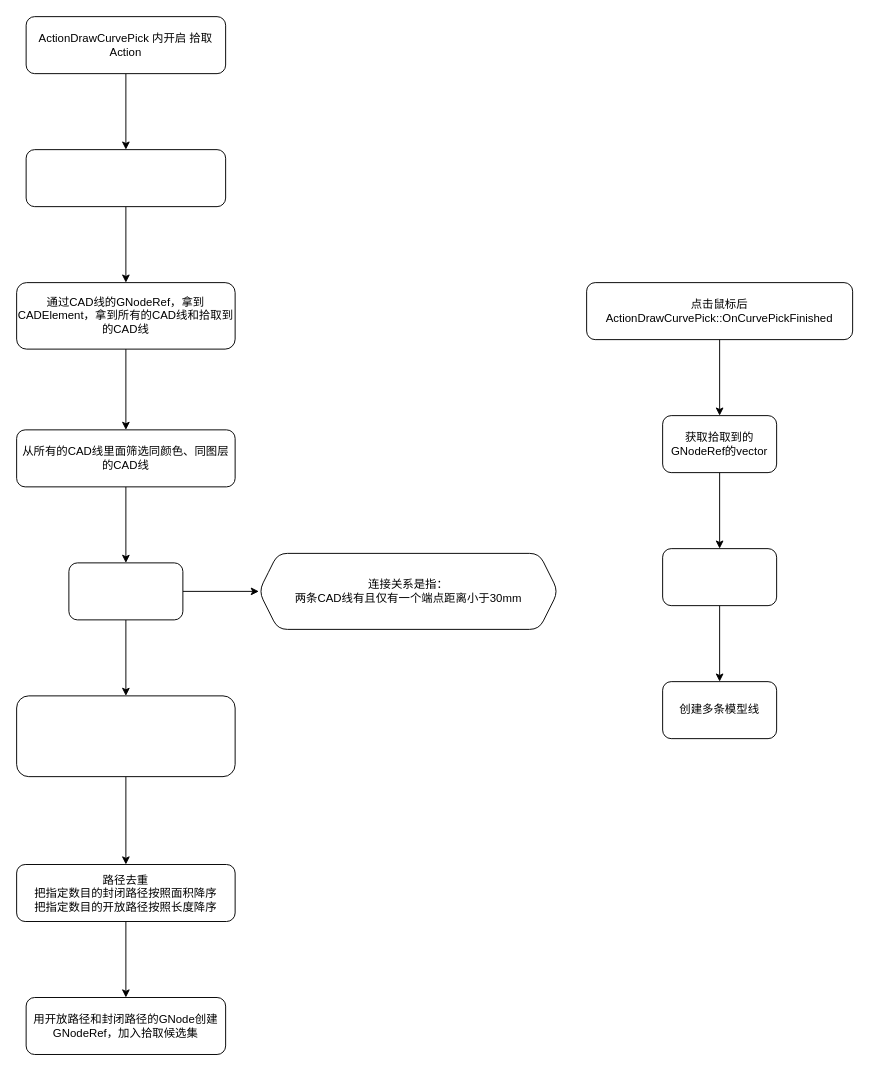
Some shapes in this 869 by 1072 pixel diagram are drawn without their labels. The box of each missing label's shape, as (x1, y1, x2, y2) in pixels:
DFS遍历所有的CAD线，查找到环和非环的所有路径（包含被拾取到的CAD线） 为了提高性能，随DFS递归深度和结果的数目加以控制: (16, 695, 235, 777)
hover到cad线，进入pickposteventhandle: (25, 149, 226, 207)
vector size大于1，则证明需要创建多条模型线: (662, 548, 777, 606)
给过滤后的CAD线建立连接关系: (68, 562, 183, 620)
